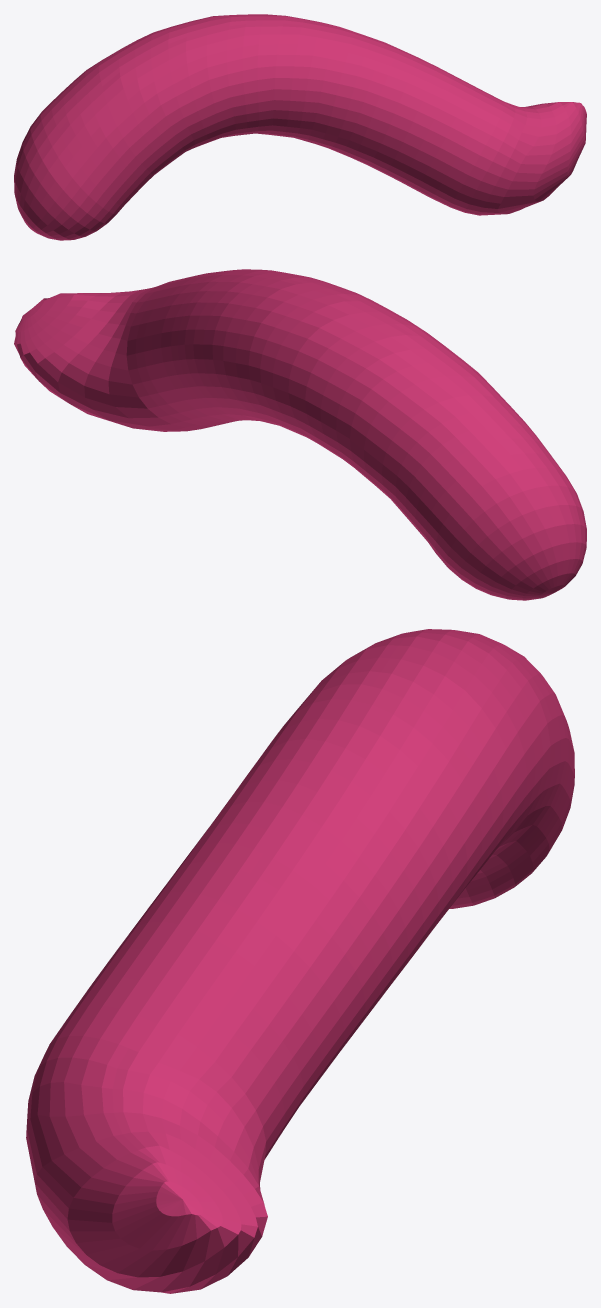
File: Sausage6.glb
3 views of the same model, one above another, from view 1: azimuth 30°, elevation 25°; view 2: azimuth 150°, elevation 25°; view 3: azimuth 270°, elevation 25° (orthographic). The views are drawn at different scales.
Visible parts, largest first — view 1: Sphere.004; view 2: Sphere.004; view 3: Sphere.004.
Boxes of the visible parts, bbox=[...] form: Sphere.004: bbox=[14, 14, 586, 240]; Sphere.004: bbox=[14, 269, 586, 600]; Sphere.004: bbox=[26, 629, 574, 1293].
Bounding box in the file's own units: 9.7 × 3.58 × 4.6.
